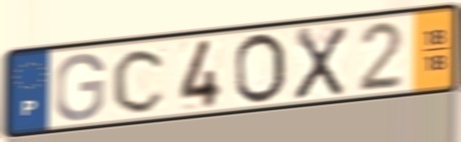2: (357, 19, 408, 94)
4: (176, 37, 225, 111)
C: (110, 45, 170, 116)
G: (52, 51, 107, 124)
O: (232, 31, 289, 107)
X: (291, 24, 350, 103)
